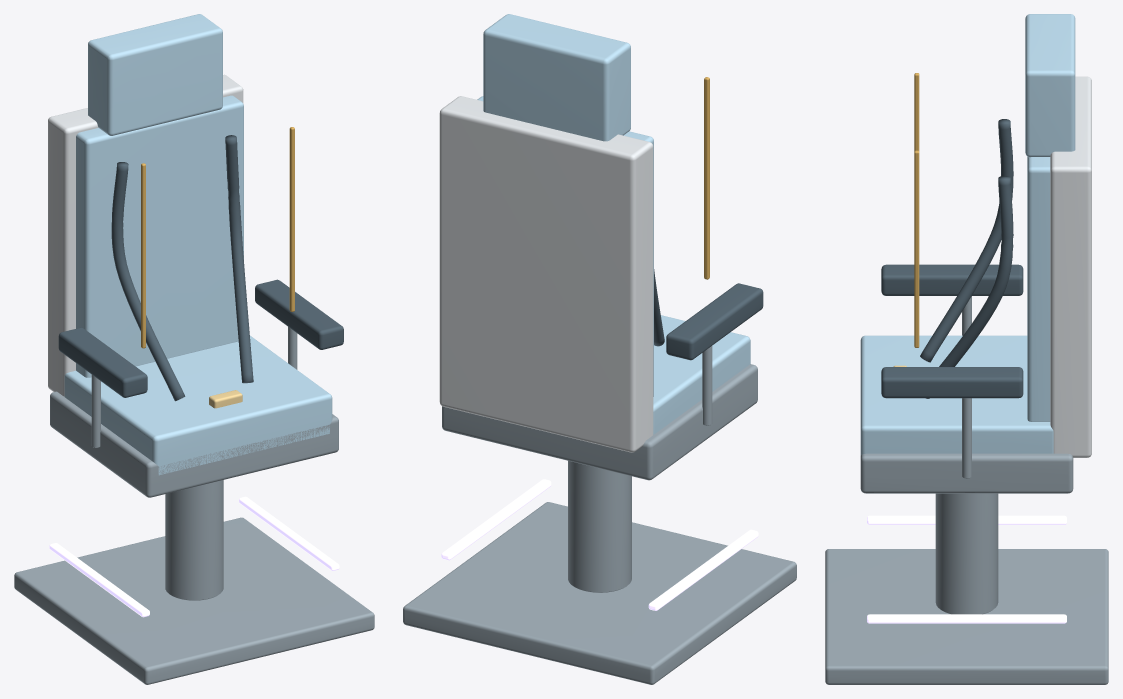
The model's file is pilot_seat.glb.
The picture shows the model from 3 angles, left to right: view 1: azimuth 30°, elevation 25°; view 2: azimuth 150°, elevation 25°; view 3: azimuth 270°, elevation 25°; orthographic projection. The views are drawn at different scales.
Visible parts, largest first — view 1: Backrest_Pad, Seat_Floor_Rail, Seat_Cushion, Headrest, Seat_Frame, Backrest_Shell, Seat_Pedestal, Armrest-1, Harness_Webbing1, Armrest1, Harness_Webbing-1, Seat_Base_Accent (+4 smaller); view 2: Backrest_Shell, Seat_Floor_Rail, Headrest, Seat_Frame, Seat_Pedestal, Seat_Cushion, Armrest-1, Seat_Base_Accent, Seat_Base_Accent_2, Seat_Back_Piping, Armrest_Post-1; view 3: Seat_Floor_Rail, Seat_Cushion, Backrest_Shell, Seat_Frame, Seat_Pedestal, Headrest, Backrest_Pad, Armrest1, Armrest-1, Harness_Webbing-1, Harness_Webbing1, Seat_Base_Accent_2 (+4 smaller).
Part boxes in pixels (x1=…): Backrest_Pad: x1=76, y1=95, x2=243, y2=377; Seat_Floor_Rail: x1=14, y1=517, x2=374, y2=684; Seat_Cushion: x1=64, y1=335, x2=332, y2=475; Headrest: x1=88, y1=14, x2=222, y2=135; Seat_Frame: x1=50, y1=391, x2=338, y2=497; Backrest_Shell: x1=48, y1=74, x2=243, y2=396; Seat_Pedestal: x1=165, y1=480, x2=223, y2=600; Armrest-1: x1=58, y1=327, x2=147, y2=397; Harness_Webbing1: x1=225, y1=135, x2=253, y2=383; Armrest1: x1=255, y1=279, x2=343, y2=349; Harness_Webbing-1: x1=111, y1=162, x2=185, y2=401; Seat_Base_Accent: x1=49, y1=543, x2=149, y2=617; Backrest_Shell: x1=439, y1=96, x2=653, y2=452; Seat_Floor_Rail: x1=403, y1=502, x2=796, y2=684; Headrest: x1=483, y1=14, x2=630, y2=141; Seat_Frame: x1=442, y1=364, x2=757, y2=480; Seat_Pedestal: x1=568, y1=461, x2=631, y2=592; Seat_Cushion: x1=653, y1=315, x2=750, y2=434; Armrest-1: x1=666, y1=283, x2=763, y2=360; Seat_Base_Accent: x1=648, y1=529, x2=758, y2=610; Seat_Base_Accent_2: x1=441, y1=479, x2=551, y2=560; Seat_Back_Piping: x1=704, y1=77, x2=709, y2=279; Armrest_Post-1: x1=702, y1=346, x2=712, y2=425; Seat_Floor_Rail: x1=825, y1=549, x2=1108, y2=684; Seat_Cushion: x1=860, y1=335, x2=1053, y2=455; Backrest_Shell: x1=1050, y1=76, x2=1091, y2=457; Seat_Frame: x1=860, y1=453, x2=1073, y2=493; Seat_Pedestal: x1=935, y1=493, x2=998, y2=614; Headrest: x1=1025, y1=14, x2=1075, y2=157; Backrest_Pad: x1=1027, y1=157, x2=1050, y2=421; Armrest1: x1=881, y1=367, x2=1023, y2=398; Armrest-1: x1=881, y1=264, x2=1023, y2=295; Harness_Webbing-1: x1=920, y1=119, x2=1013, y2=362; Harness_Webbing1: x1=926, y1=176, x2=1013, y2=398; Seat_Base_Accent_2: x1=867, y1=614, x2=1066, y2=623.
Size of the model in its own units: 0.68 by 1.54 by 0.68.
